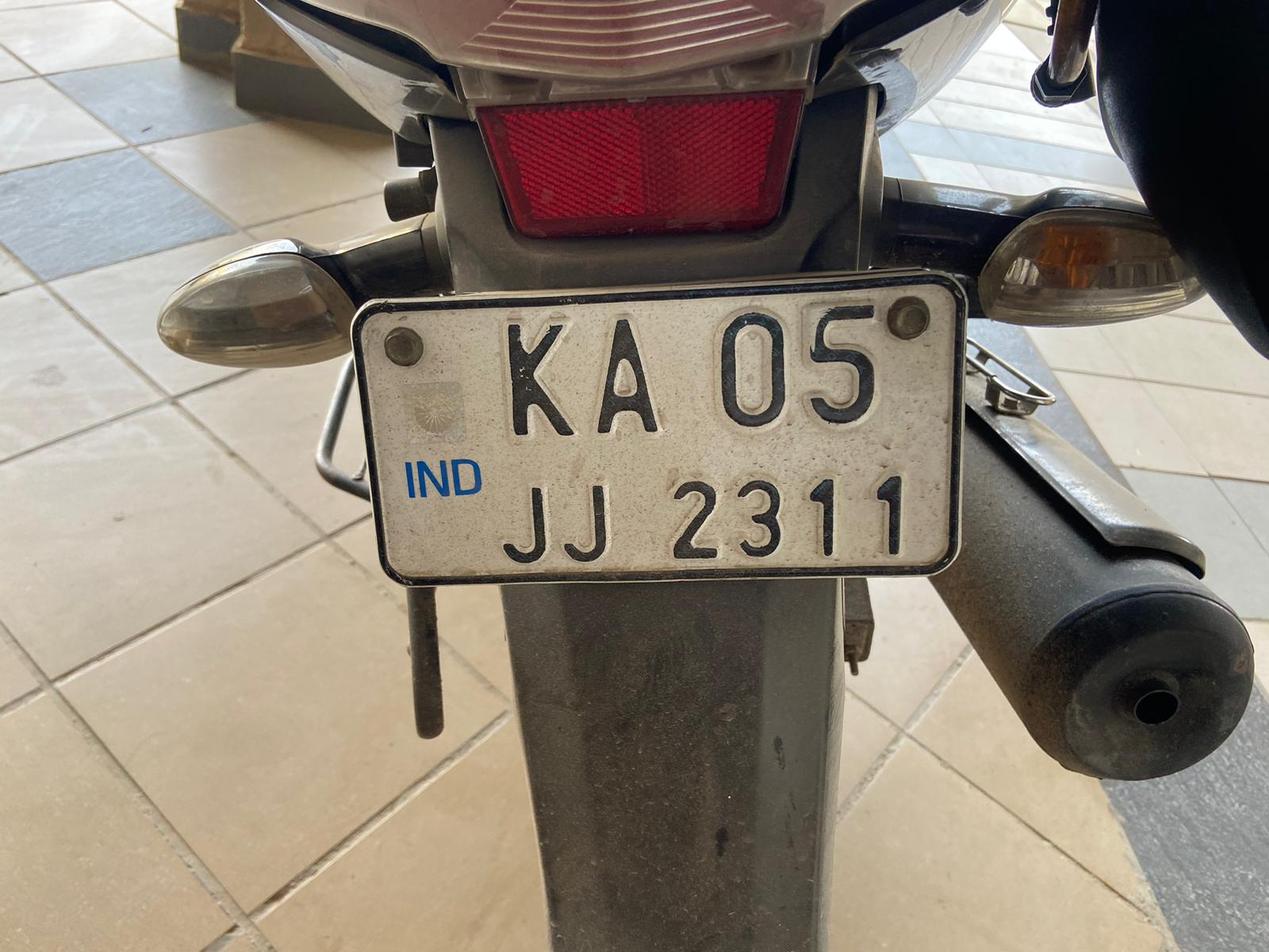0: (706, 304, 797, 432)
1: (861, 470, 926, 568), (799, 466, 850, 562)
2: (655, 464, 726, 560)
3: (734, 470, 793, 568)
5: (796, 288, 894, 429)
A: (589, 310, 670, 452)
J: (562, 482, 626, 568), (502, 482, 559, 576)
K: (496, 306, 586, 446)
